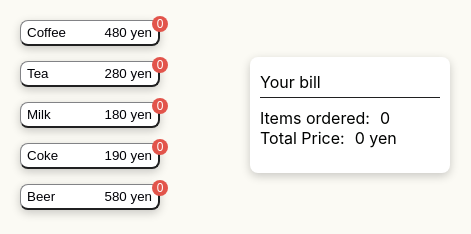
Test: components | CafeOrderingSystem › shows correct count when button is clicked
Step 1. Click the button with test id "coffee" → click(90, 33), box left=20, top=20, right=160, bottom=46
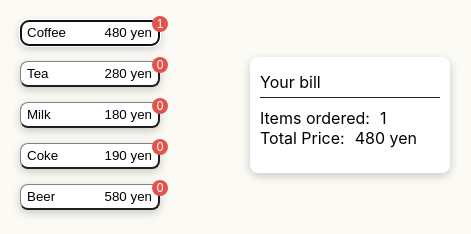
Step 2. Click the button with test id "coffee" → click(90, 33), box left=20, top=20, right=160, bottom=46
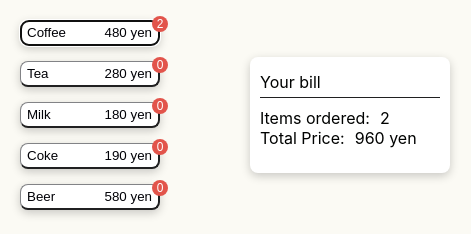
Step 3. Click the button with test id "coffee" → click(90, 33), box left=20, top=20, right=160, bottom=46
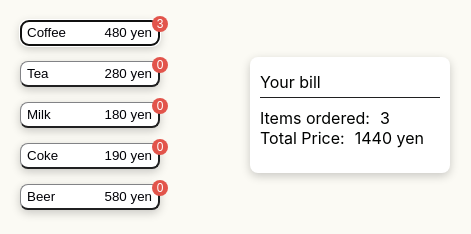
Step 4. Click the button with test id "tea" → click(90, 74), box left=20, top=61, right=160, bottom=87
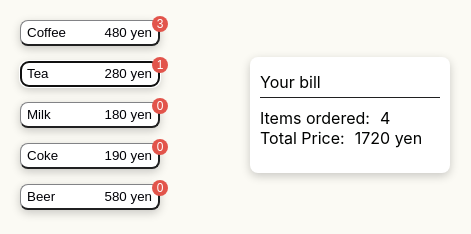
Step 5. Click the button with test id "milk" → click(90, 115), box left=20, top=102, right=160, bottom=128
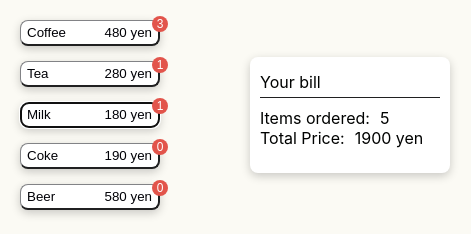
Check: the text with test id "coffee-count" reads "3", box left=157, top=17, right=163, bottom=31
Check: the text with test id "tea-count" reads "1", box left=157, top=58, right=163, bottom=72
Check: the text with test id "milk-count" reads "1", box left=157, top=99, right=163, bottom=113
